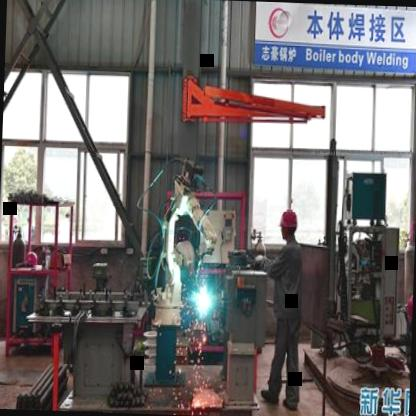helmet: (276, 204, 300, 245), (404, 287, 414, 336)
